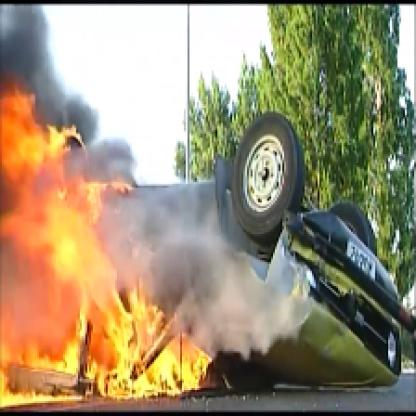Fire: (2, 86, 210, 412)
